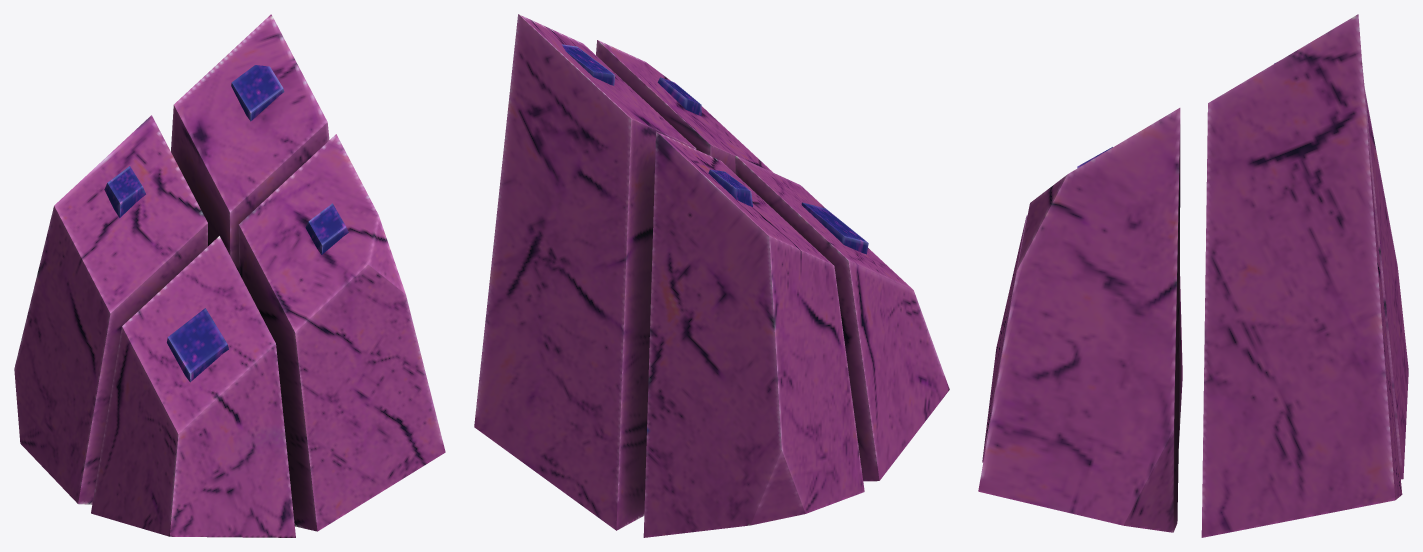
Rendered from HypnoLOD2Top.fbx.
The picture shows the model from 3 angles, left to right: view 1: azimuth 30°, elevation 25°; view 2: azimuth 150°, elevation 25°; view 3: azimuth 270°, elevation 25°; orthographic projection. The views are drawn at different scales.
Visible parts, largest first — view 1: polySurface1927; view 2: polySurface1927; view 3: polySurface1927.
Boxes of the visible parts, box(x1,y1,x2,y2) form: polySurface1927: box(14, 14, 445, 537); polySurface1927: box(474, 14, 949, 537); polySurface1927: box(978, 14, 1408, 537).
Bounding box in the file's own units: 1.93 × 2.77 × 1.91.
1 material, 1 textured.
